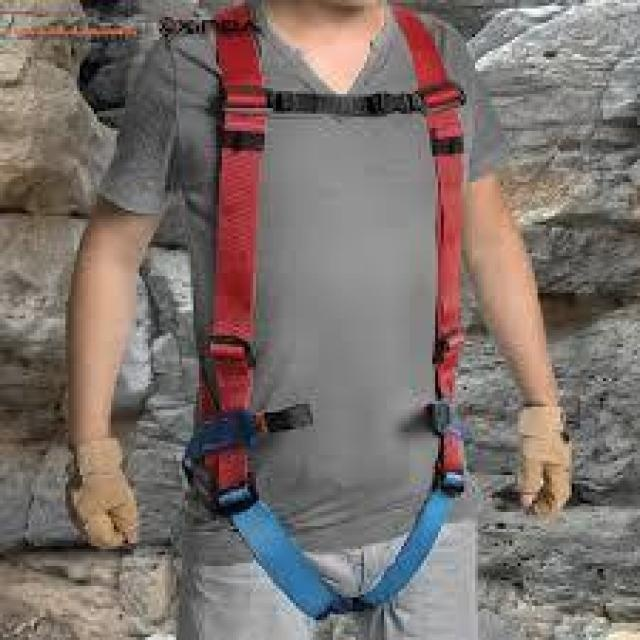Arnes_seguridad: (193, 4, 470, 621)
